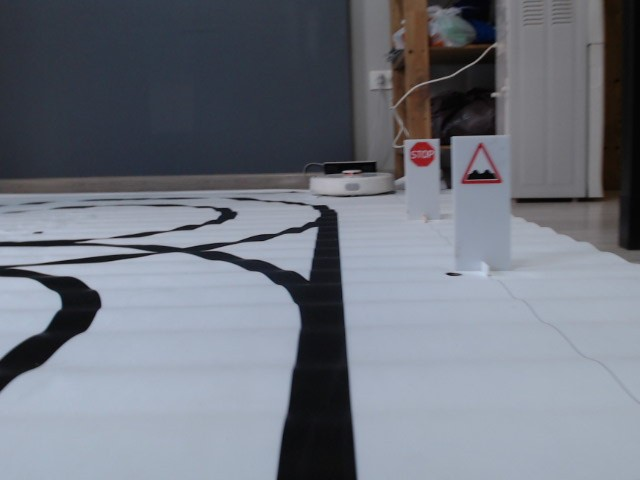Nerov: (459, 140, 505, 185)
Stop: (409, 141, 436, 168)
